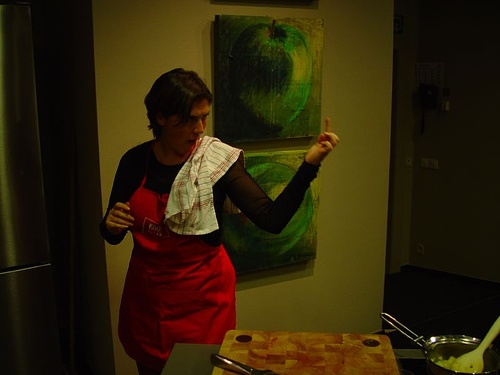head: (144, 69, 214, 159)
person: (98, 64, 348, 375)
